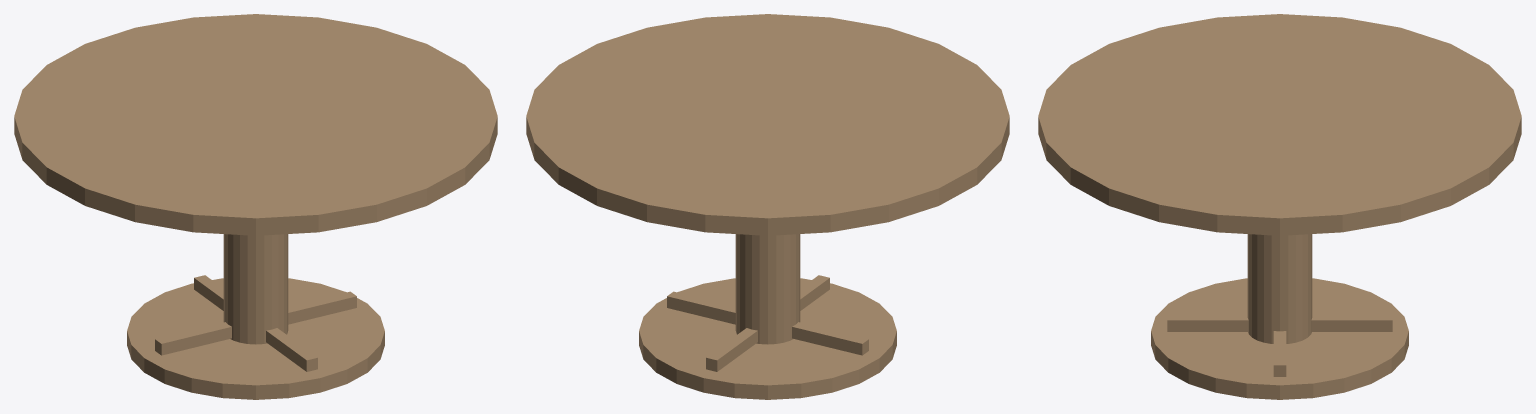
The model's file is RoundTable.fbx.
3 renders of one model, left to right at view 1: azimuth 30°, elevation 25°; view 2: azimuth 150°, elevation 25°; view 3: azimuth 270°, elevation 25°, orthographic.
Parts seen in each view (by area): view 1: RoundTable; view 2: RoundTable; view 3: RoundTable.
Part boxes in pixels (x1,y1,x2,y2): RoundTable: [14, 14, 497, 399]; RoundTable: [526, 14, 1009, 399]; RoundTable: [1038, 14, 1521, 399].
Bounding box in the file's own units: 150 × 78.5 × 150.
